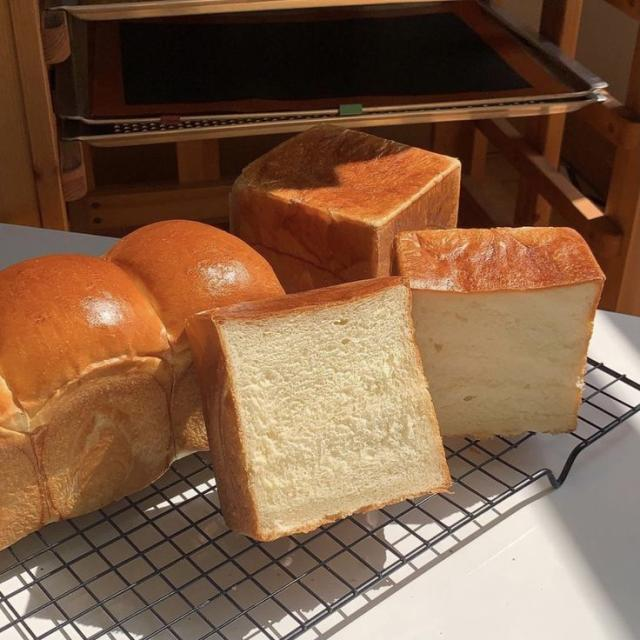bread: (0, 221, 282, 548), (187, 278, 450, 540), (0, 255, 174, 547), (394, 228, 604, 437), (106, 220, 283, 455), (230, 125, 459, 293)
